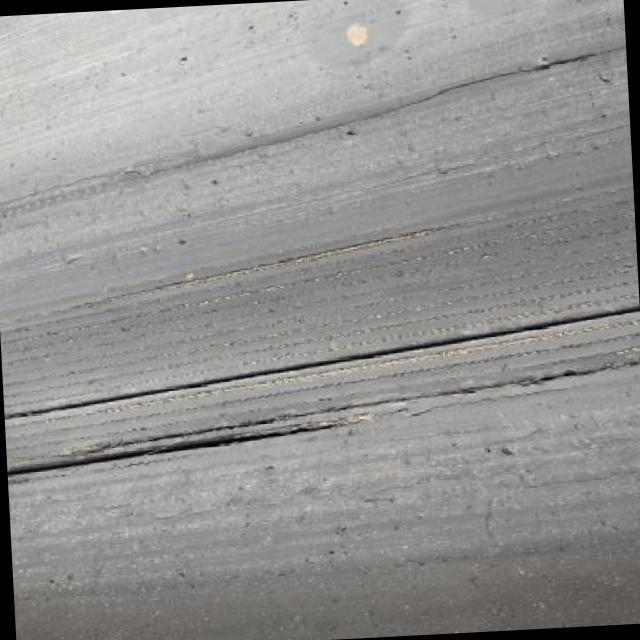Tear: (1, 298, 640, 422), (89, 351, 639, 452), (1, 417, 337, 483), (429, 34, 627, 107)
Wear: (0, 192, 637, 416)
